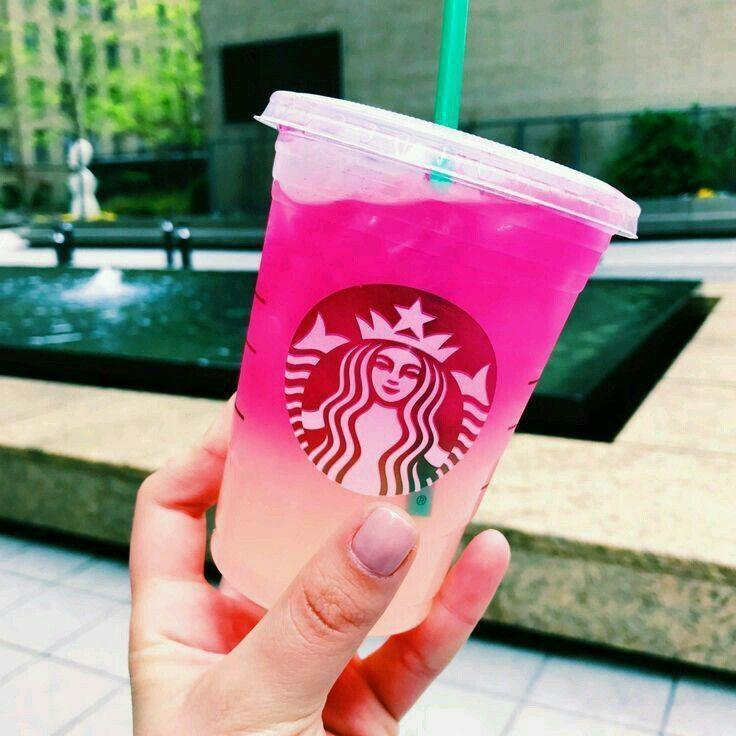cup-disposable: (209, 88, 641, 636)
